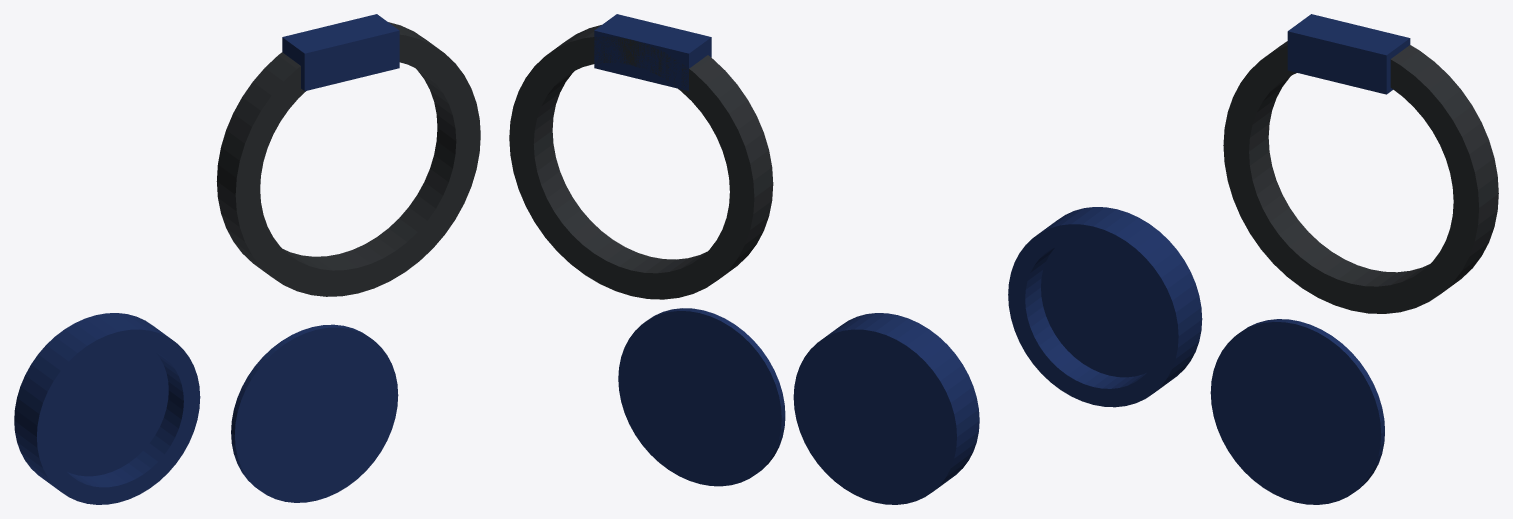
Rendered from tinker.obj.
3 views of the same model, side by side, from view 1: azimuth 30°, elevation 25°; view 2: azimuth 150°, elevation 25°; view 3: azimuth 330°, elevation 25° (orthographic). The views are drawn at different scales.
Parts seen in each view (by area): view 1: obj_2, obj_1, obj_3, obj_0; view 2: obj_2, obj_1, obj_3, obj_0; view 3: obj_2, obj_1, obj_3, obj_0.
Boxes of the visible parts, x1,y1,x2,y2 form: obj_2: (14, 313, 200, 504); obj_1: (216, 22, 480, 296); obj_3: (231, 324, 398, 502); obj_0: (282, 14, 399, 90); obj_2: (793, 313, 979, 504); obj_1: (509, 25, 773, 299); obj_3: (618, 308, 785, 486); obj_0: (594, 14, 711, 91); obj_2: (1008, 207, 1202, 407); obj_1: (1223, 41, 1498, 313); obj_3: (1210, 319, 1384, 504); obj_0: (1287, 14, 1410, 94).
Size of the model in its own units: 137 by 131 by 13.
